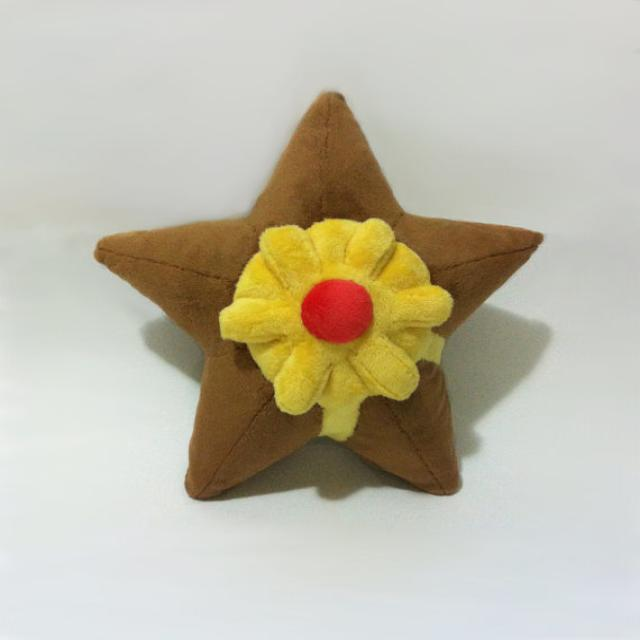Staryu: (105, 92, 536, 500)
